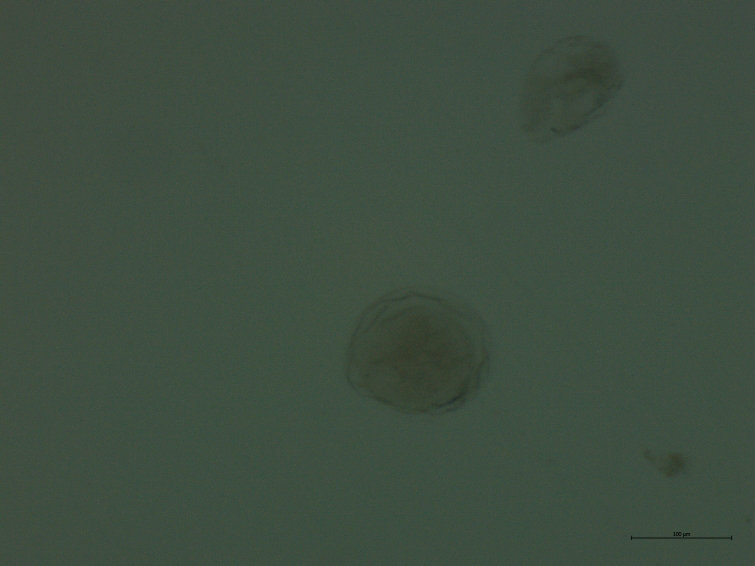oyster: (336, 279, 510, 426)
